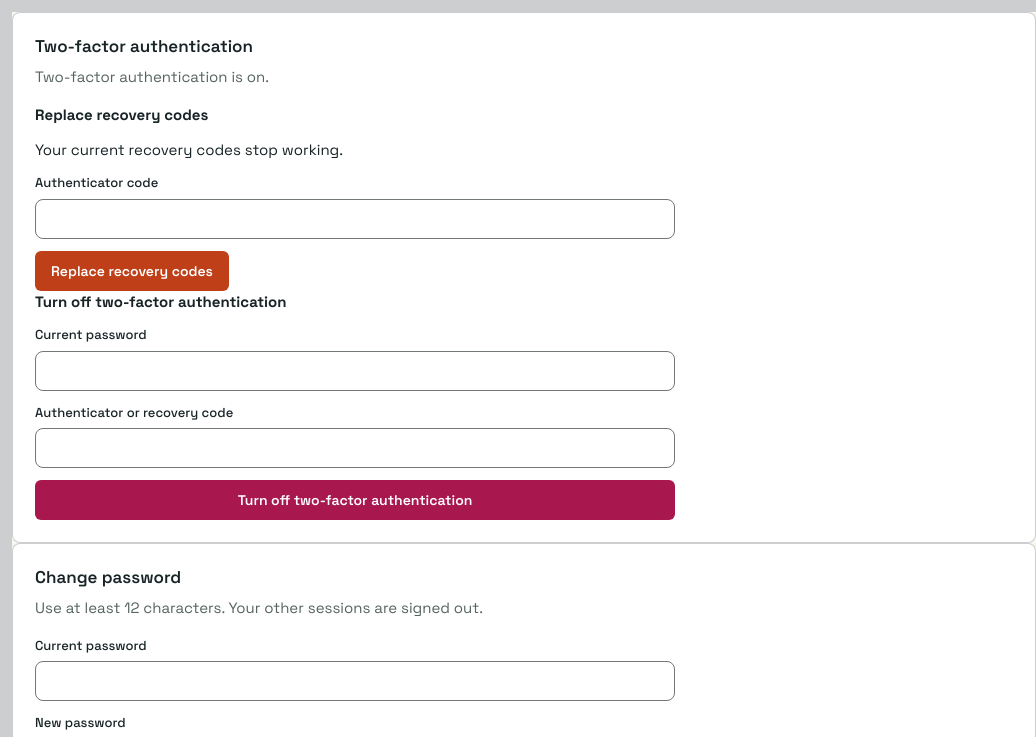
it: disables and replaces codes when enabled, and names refusals
Type "local-secret" into the password field named "password" at (355, 371), box [35,351,675,391]
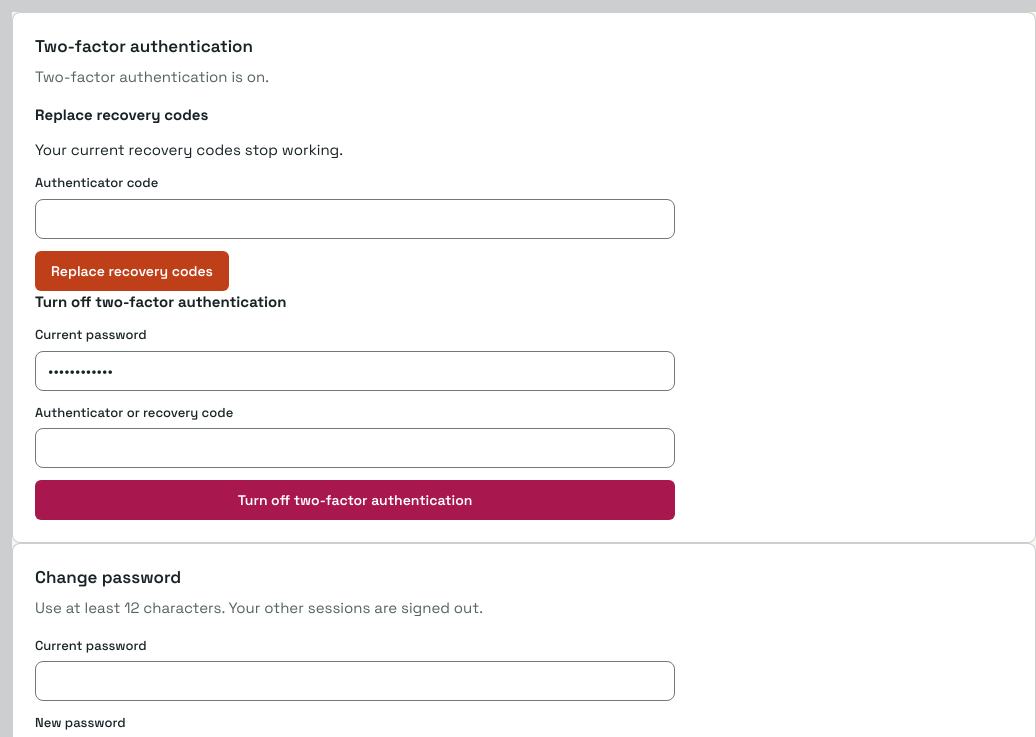
Type "aaaa-bbbb-cccc" into the field labelled "Authenticator or recovery code" at (355, 448), box [35,428,675,468]
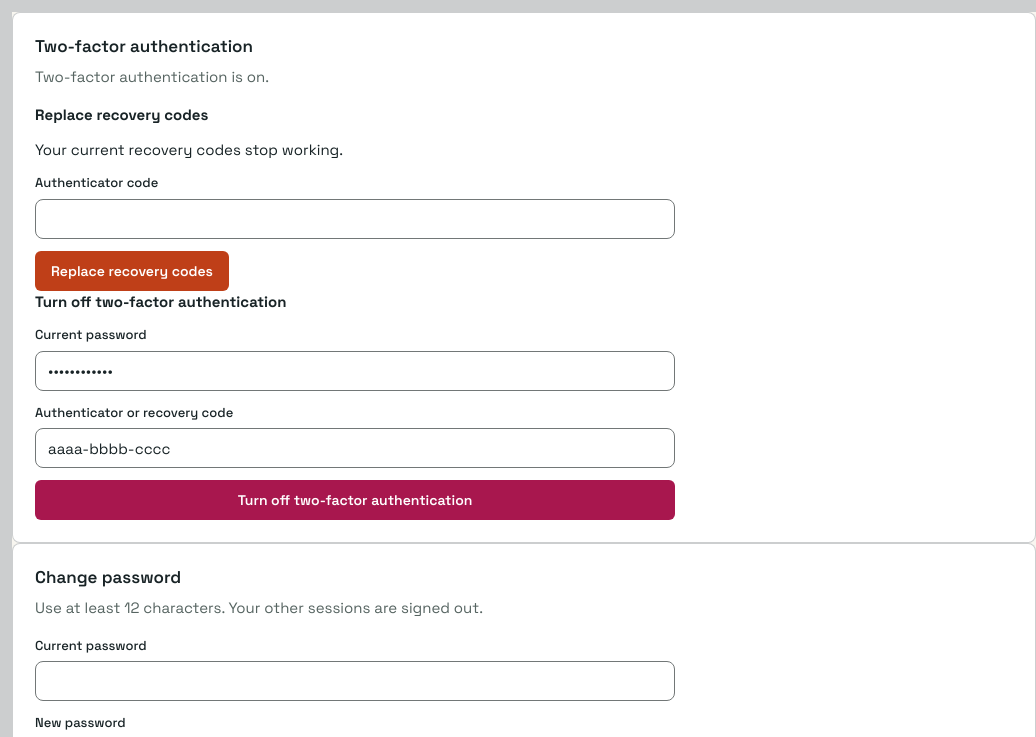
Click the button "Turn off two-factor authentication" at (355, 500), box [35,480,675,520]
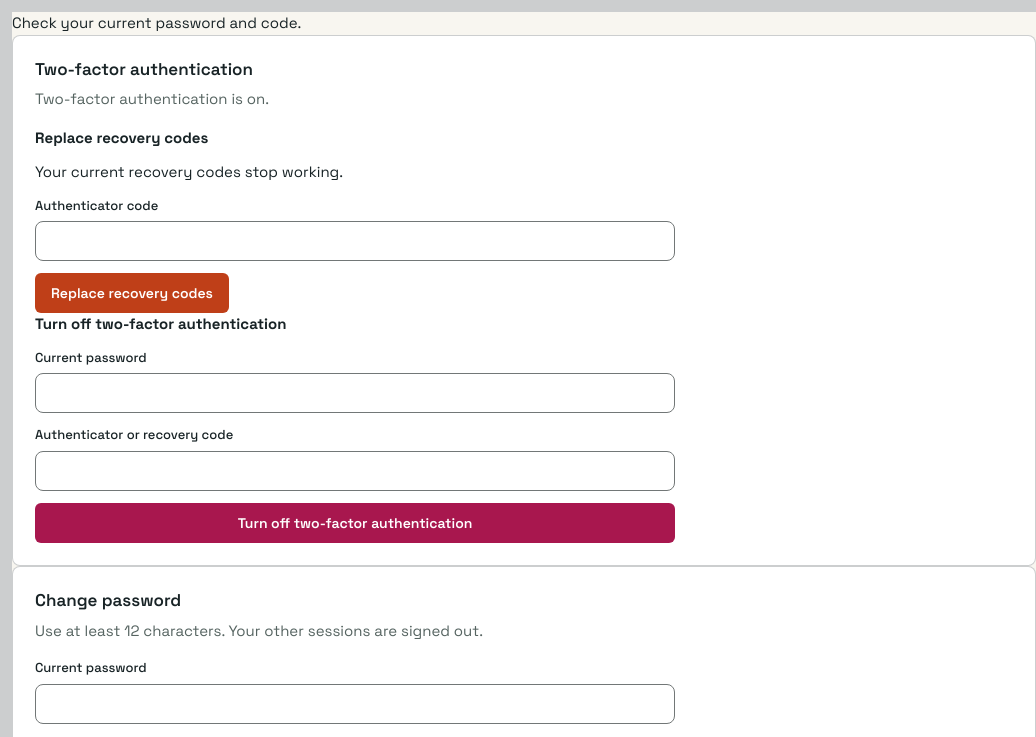
Expected: the text "Check your current password and code." is shown, [12,13,301,32]
Expected: the password field named "password" is empty, [35,373,675,413]
Type "654321" into the field named "code" at (355, 241), box [35,221,675,261]
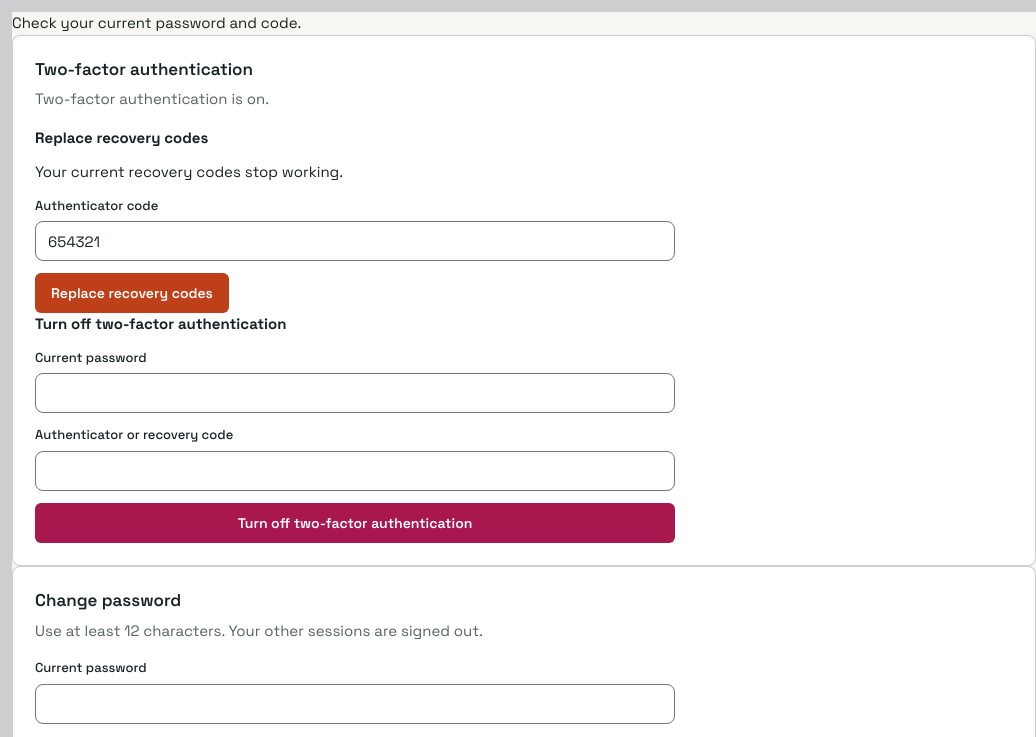
Click the button "Replace recovery codes" at (132, 293), box [35,273,229,313]
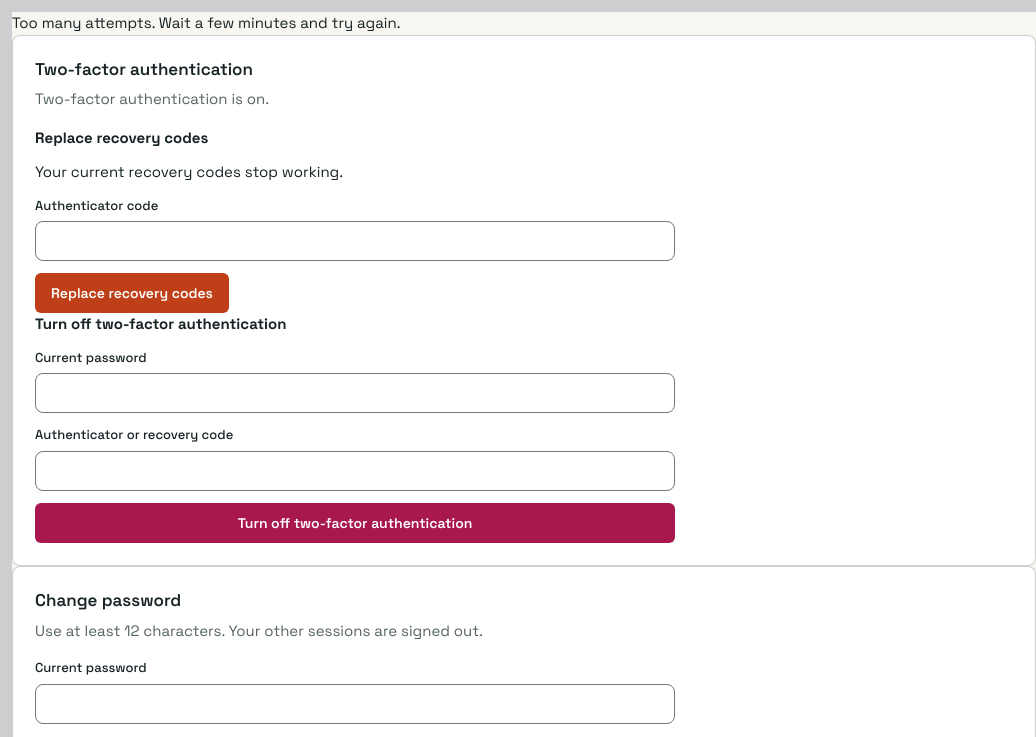
Expected: the text "Too many attempts. Wait a few minutes and try again." is shown, [12,13,400,32]
